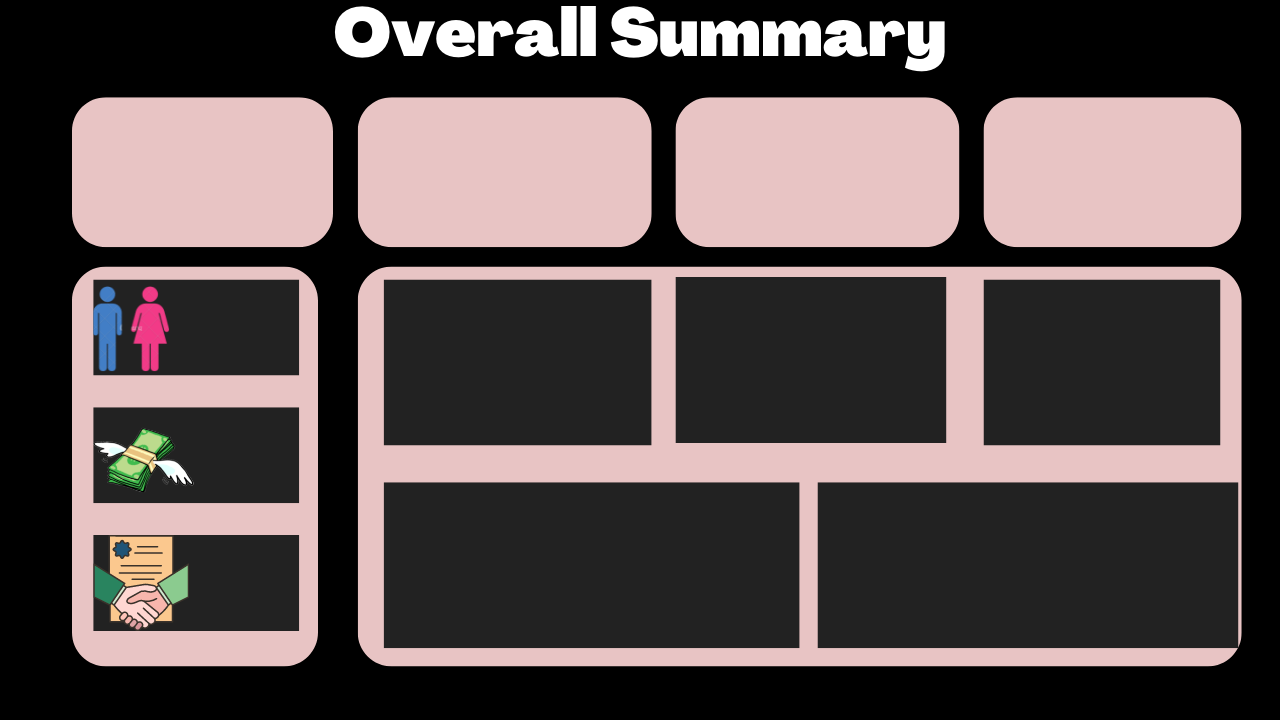

The dashboard page shown, as its layout file describes it:
{"tool":"powerbi","page":{"name":"Overall Summary","canvas":[1280,720],"ordinal":3},"visuals":[{"type":"card","fields":{"Values":["CountNonNull(Telco-churn.customerID)"]},"box":[92.9,101.3,217.1,132.7],"z":0},{"type":"card","fields":{"Values":["Avg(Telco-churn.MonthlyCharges)"]},"box":[360.6,78.4,291.9,178.5],"z":1000},{"type":"card","fields":{"Values":["Avg(Telco-churn.TotalCharges)"]},"box":[697.1,73.6,231.6,188.1],"z":2000},{"type":"card","fields":{"Values":["Avg(Telco-churn.tenure)"]},"box":[1004.6,101.3,217.1,132.7],"z":3000},{"type":"slicer","fields":{"Values":["Telco-churn.gender"]},"box":[185.7,283.4,112.2,109.7],"z":4000},{"type":"slicer","fields":{"Values":["Telco-churn.PaymentMethod"]},"box":[177.3,402.8,120.6,109.7],"z":5000},{"type":"slicer","fields":{"Values":["Telco-churn.Contract"]},"box":[177.3,531.9,132.7,103.7],"z":6000},{"type":"lineChart","fields":{"Y":["CountNonNull(Telco-churn.customerID)"],"Category":["Telco-churn.tenure"],"Series":["Telco-churn.Churn"]},"box":[384.7,478.8,412.5,167.6],"z":7000},{"type":"columnChart","fields":{"Category":["Telco-churn.Churn"],"Y":["CountNonNull(Telco-churn.gender)"],"Series":["Telco-churn.gender"]},"box":[676.6,261.7,272.6,179.7],"z":8000},{"type":"pieChart","fields":{"Category":["Telco-churn.gender"],"Y":["CountNonNull(Telco-churn.gender)"]},"box":[384.7,248.4,281,207.4],"z":9000},{"type":"lineChart","fields":{"Y":["CountNonNull(Telco-churn.customerID)"],"Series":["Telco-churn.Churn"],"Category":["Telco-churn.MonthlyCharges"]},"box":[822.5,478.8,411.3,167.6],"z":10000},{"type":"image","box":[980.5,256.9,241.2,201.4],"z":11000},{"type":"actionButton","box":[0,4.8,92.9,86.8],"z":11001}]}

Visuals, with their boxes in screenshot pixels (x1, y1, x2, y2), scaled from the page's 1280x720 canvas onto the 1280x720 screenshot:
card - CountNonNull(Telco-churn.customerID): 93:101:310:234
card - Avg(Telco-churn.MonthlyCharges): 361:78:652:257
card - Avg(Telco-churn.TotalCharges): 697:74:929:262
card - Avg(Telco-churn.tenure): 1005:101:1222:234
slicer - Telco-churn.gender: 186:283:298:393
slicer - Telco-churn.PaymentMethod: 177:403:298:512
slicer - Telco-churn.Contract: 177:532:310:636
lineChart - CountNonNull(Telco-churn.customerID) x Telco-churn.tenure: 385:479:797:646
columnChart - Telco-churn.Churn x CountNonNull(Telco-churn.gender): 677:262:949:441
pieChart - Telco-churn.gender x CountNonNull(Telco-churn.gender): 385:248:666:456
lineChart - CountNonNull(Telco-churn.customerID) x Telco-churn.Churn: 822:479:1234:646
image: 980:257:1222:458
actionButton: 0:5:93:92
